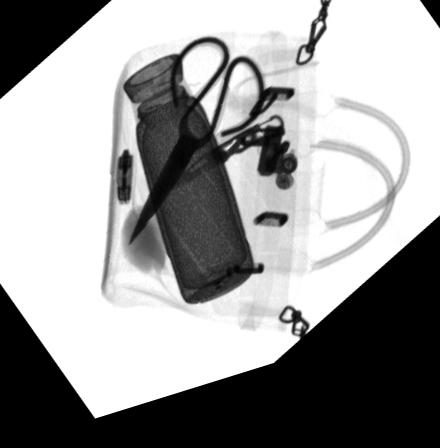Knife: (153, 129, 284, 210)
Scissors: (128, 46, 267, 254)
